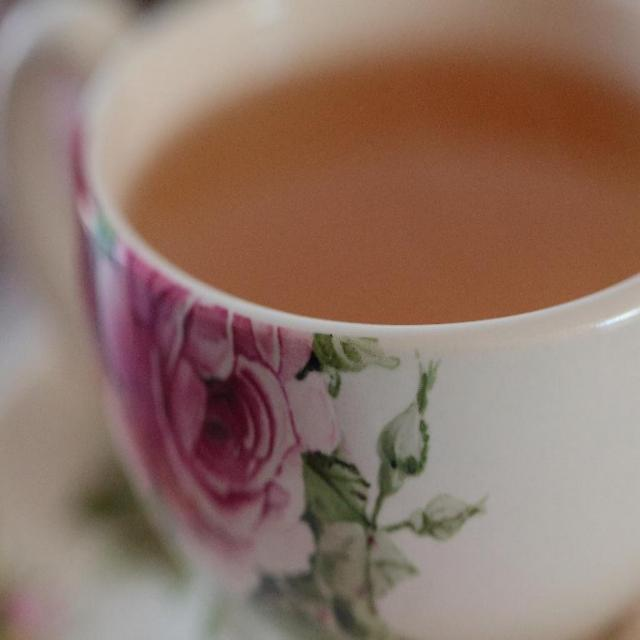Tea: (132, 60, 640, 326)
